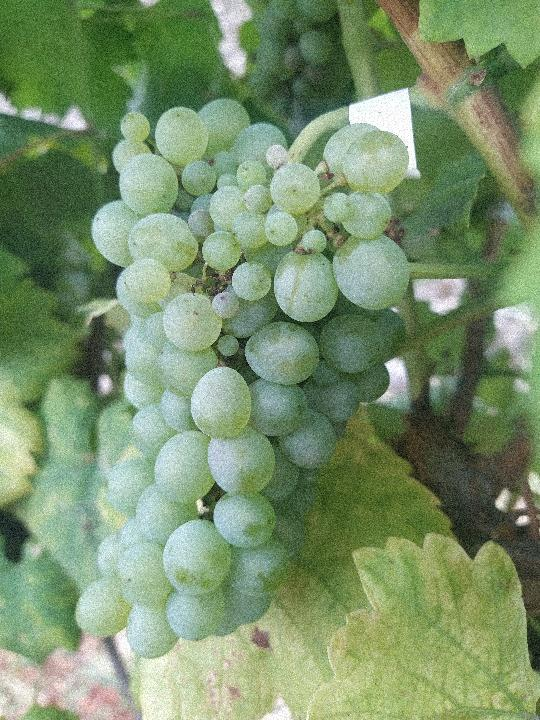grape: (73, 96, 413, 660)
